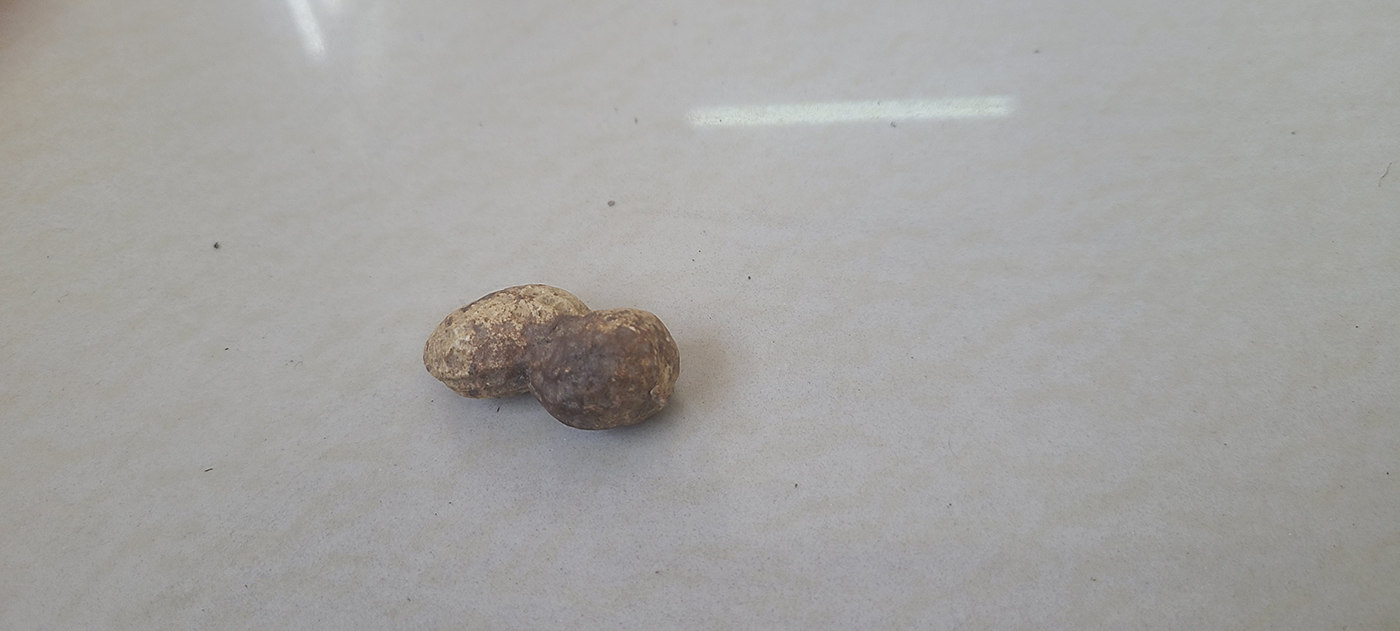l: (425, 282, 677, 429)
